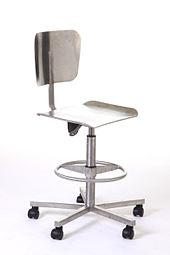chair: (26, 29, 149, 242)
